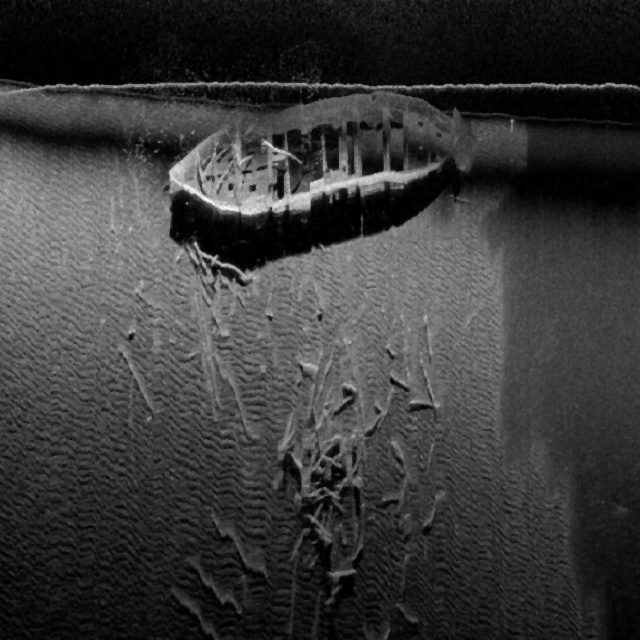Ship: (162, 74, 477, 263)
